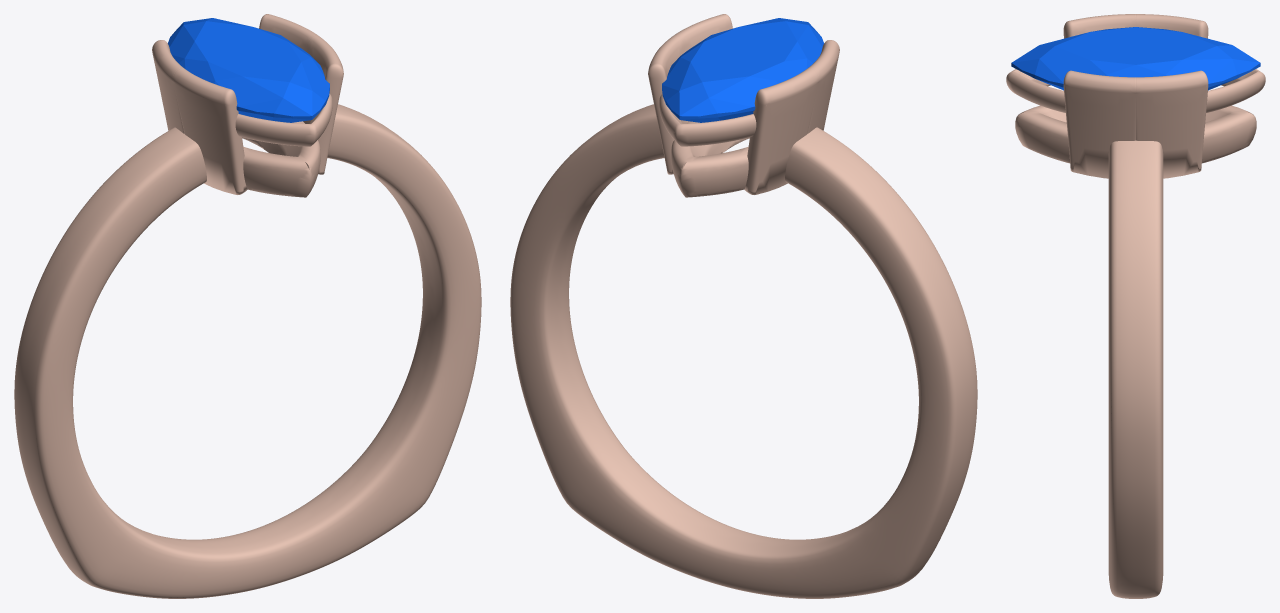
Rendered from bluesapphire-marquise-rosegold-halfmoonbezel-europeanshank-nosidestones.glb.
3 views of the same model, side by side, from view 1: azimuth 30°, elevation 25°; view 2: azimuth 150°, elevation 25°; view 3: azimuth 270°, elevation 25° (orthographic). The views are drawn at different scales.
Visible parts, largest first — view 1: metal.003, stone; view 2: metal.003, stone; view 3: metal.003, stone.
Boxes of the visible parts, x1,y1,x2,y2 form: metal.003: (14,14,481,598); stone: (168,18,329,122); metal.003: (510,14,977,598); stone: (662,18,823,122); metal.003: (1006,14,1265,598); stone: (1011,27,1260,90).
Size of the model in its own units: 20.1 by 22.73 by 10.4.
